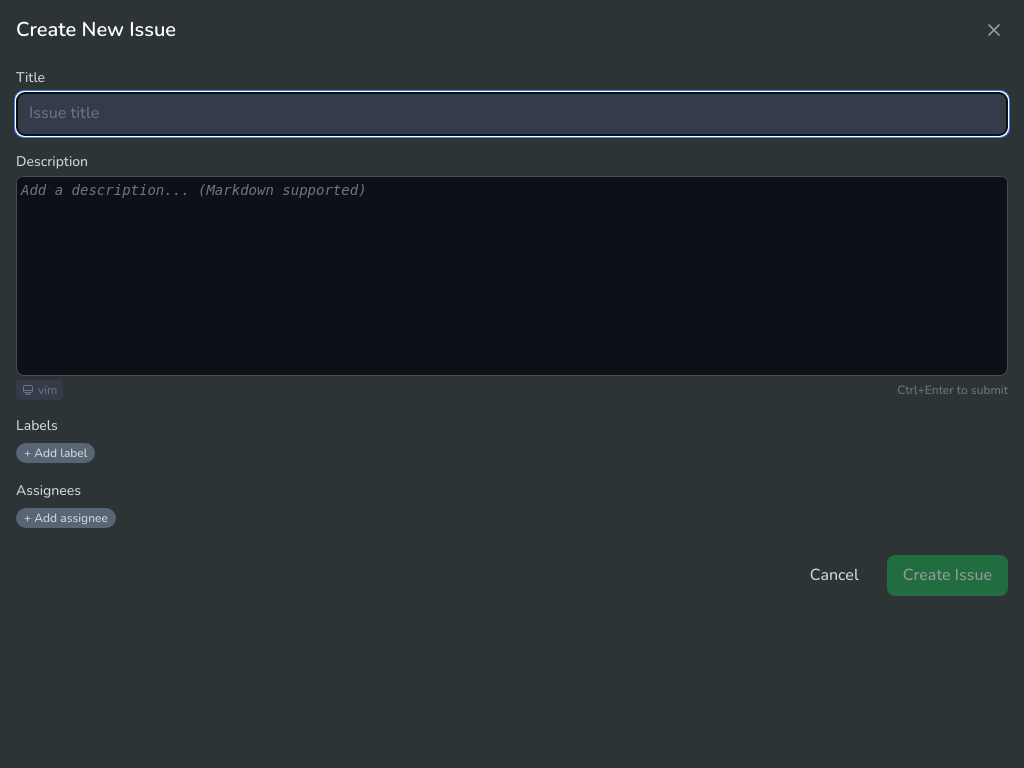
IssueCreateView › Form Submission › disables buttons during submission
The width and height of the screenshot is (1024, 768).
In the field with placeholder "Issue title": (512, 114) [16, 92, 1008, 136], type "Test"
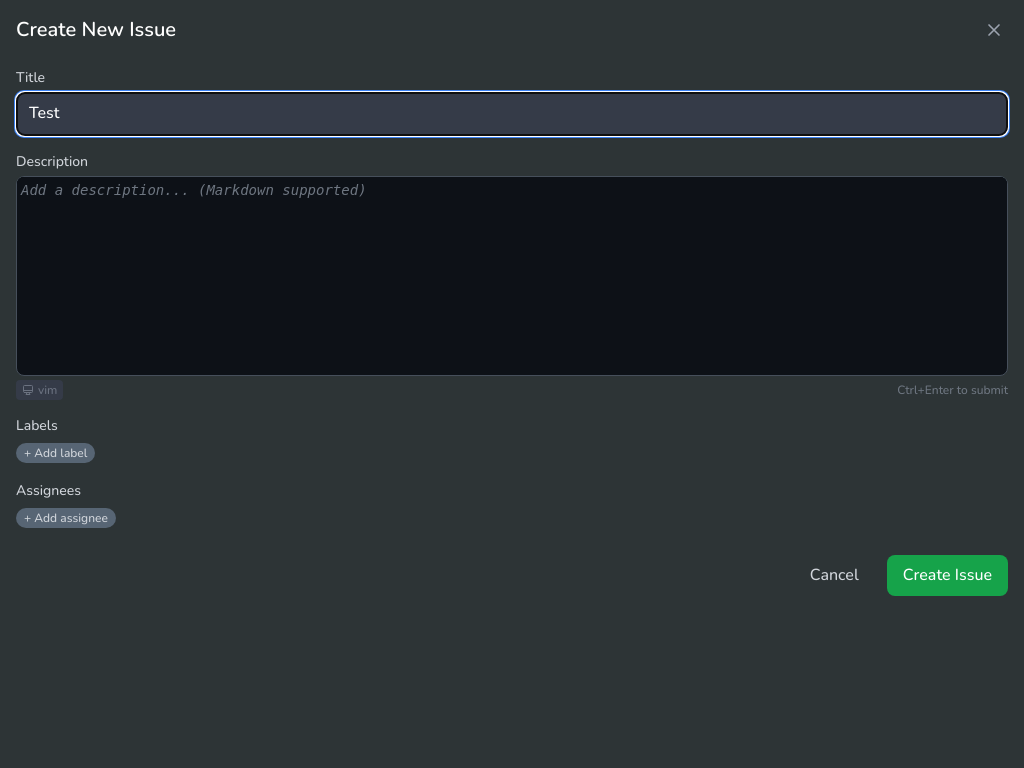
Click the button "Create Issue": (947, 576) [887, 555, 1008, 596]
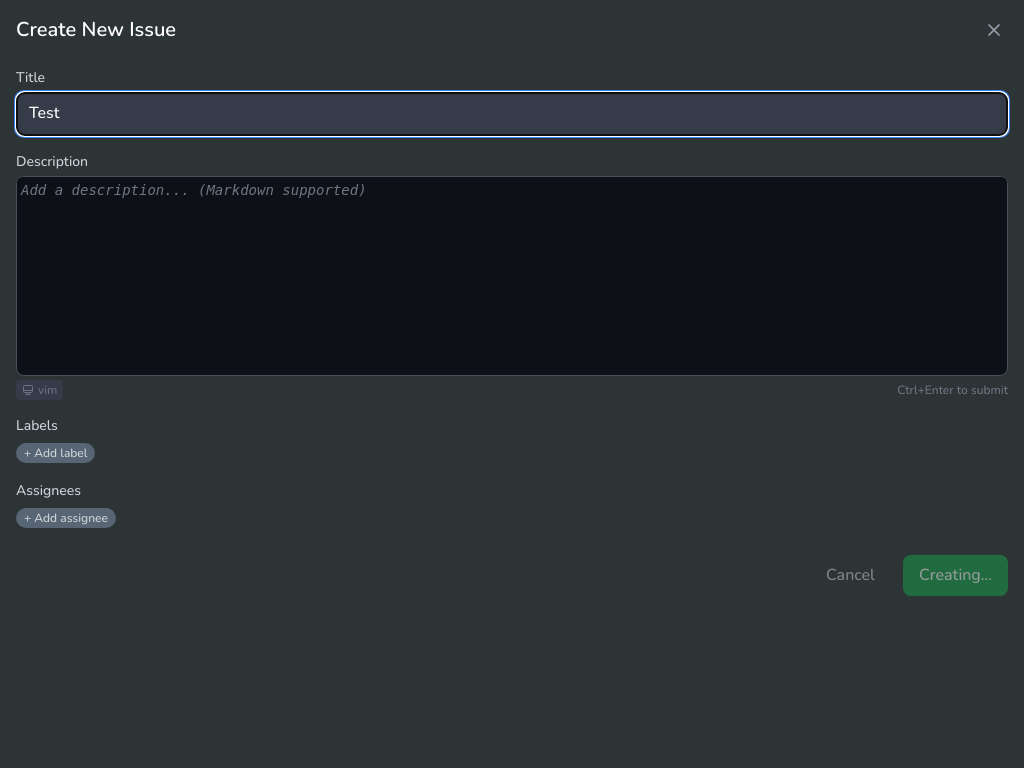
Expected: the button "Creating..." is disabled, [903, 555, 1008, 596]
Expected: the button "Cancel" is disabled, [810, 555, 891, 596]
